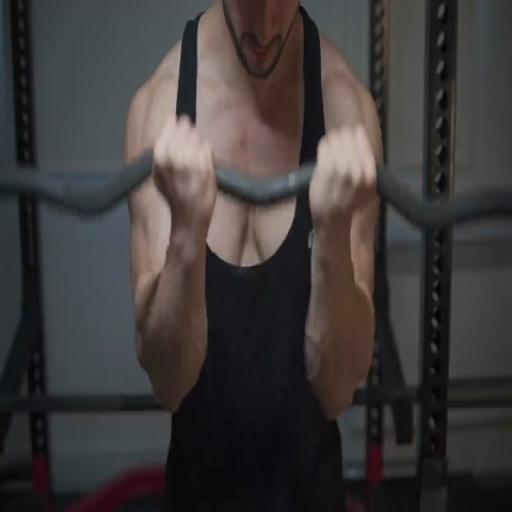exercise: (122, 0, 386, 511)
